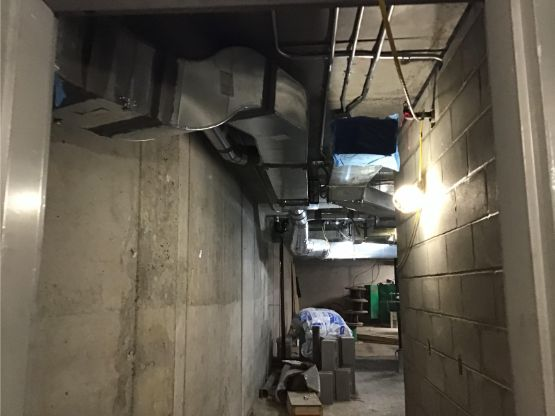Duct: (200, 34, 312, 268), (51, 8, 213, 149), (322, 106, 402, 225), (280, 220, 403, 266)
